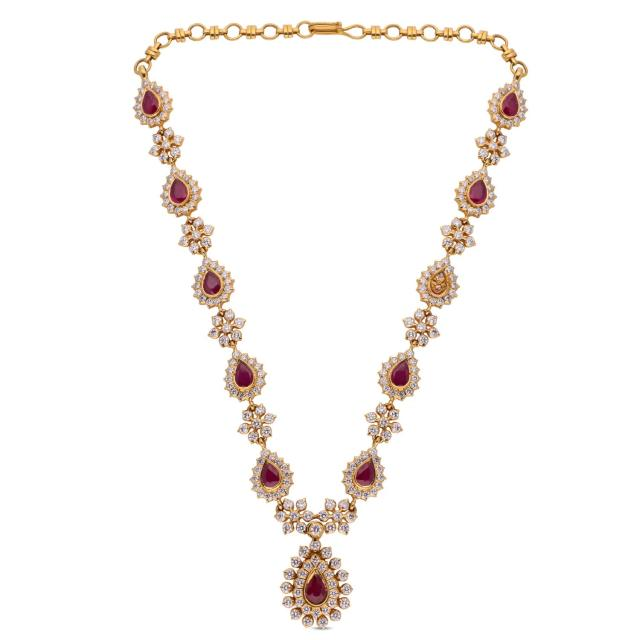missing gem: (430, 269, 447, 295)
